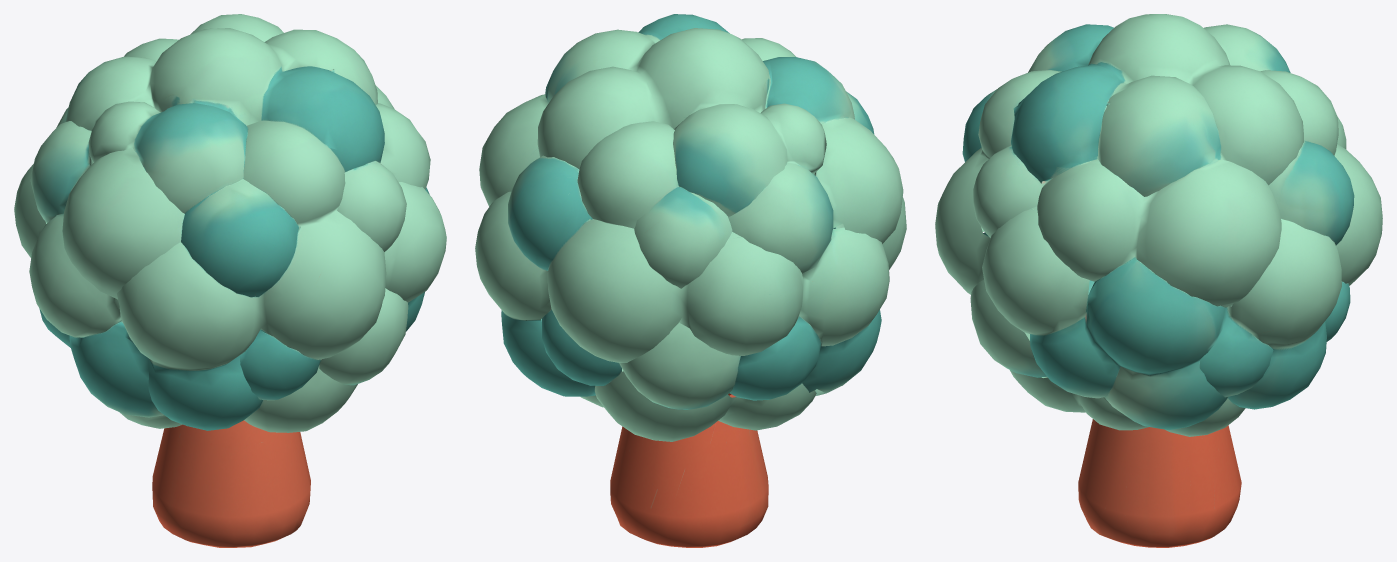
File: tree.glb
The picture shows the model from 3 angles, left to right: view 1: azimuth 30°, elevation 25°; view 2: azimuth 150°, elevation 25°; view 3: azimuth 270°, elevation 25°; orthographic projection.
Size of the model in its own units: 0.7725 by 0.9517 by 0.7793.
Materials: 1 (1 with a texture image).
